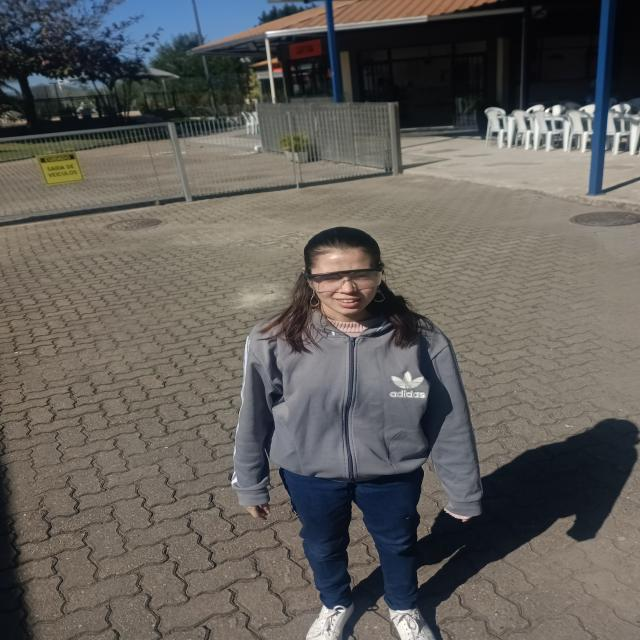oculos-epi: (303, 265, 384, 291)
